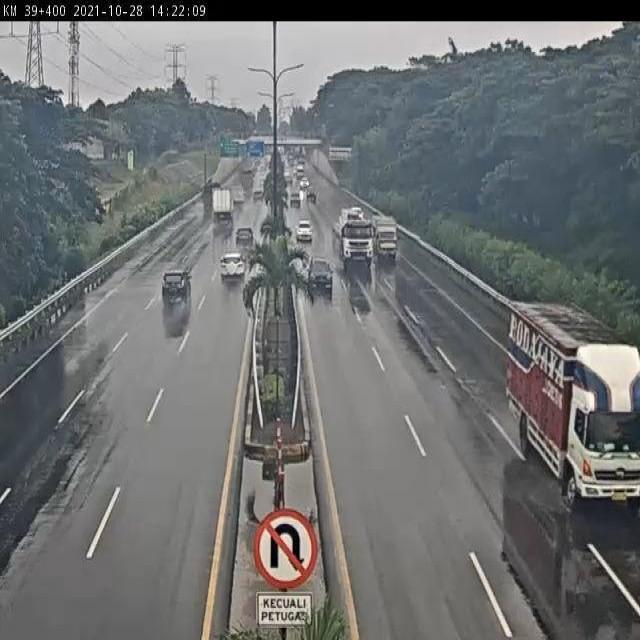car: (158, 268, 194, 307), (218, 248, 246, 283), (306, 252, 332, 287), (234, 224, 257, 248), (294, 218, 314, 242)
truck: (509, 304, 640, 499), (331, 207, 376, 268), (374, 211, 400, 263), (209, 187, 235, 224)
